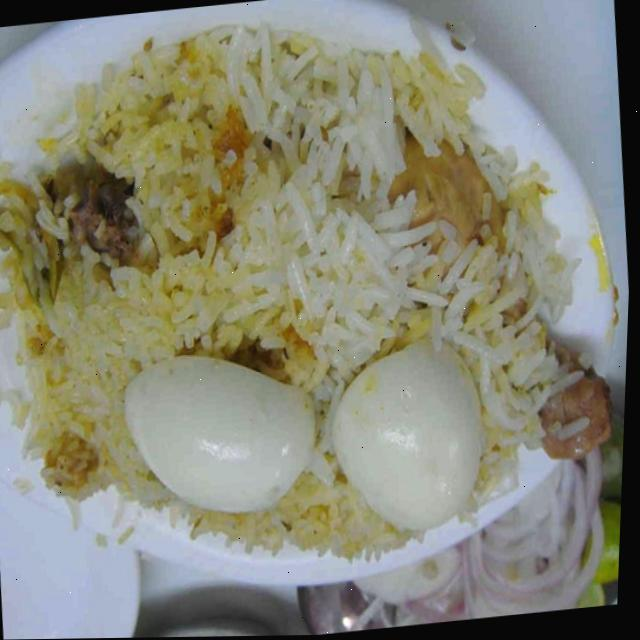米饭主食: (0, 0, 637, 623)
